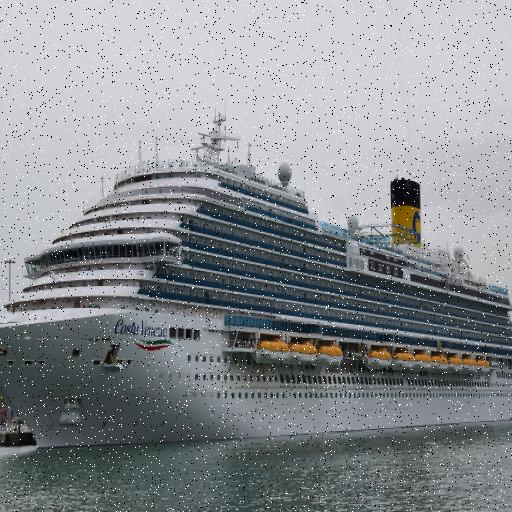cruises: (1, 114, 512, 458)
